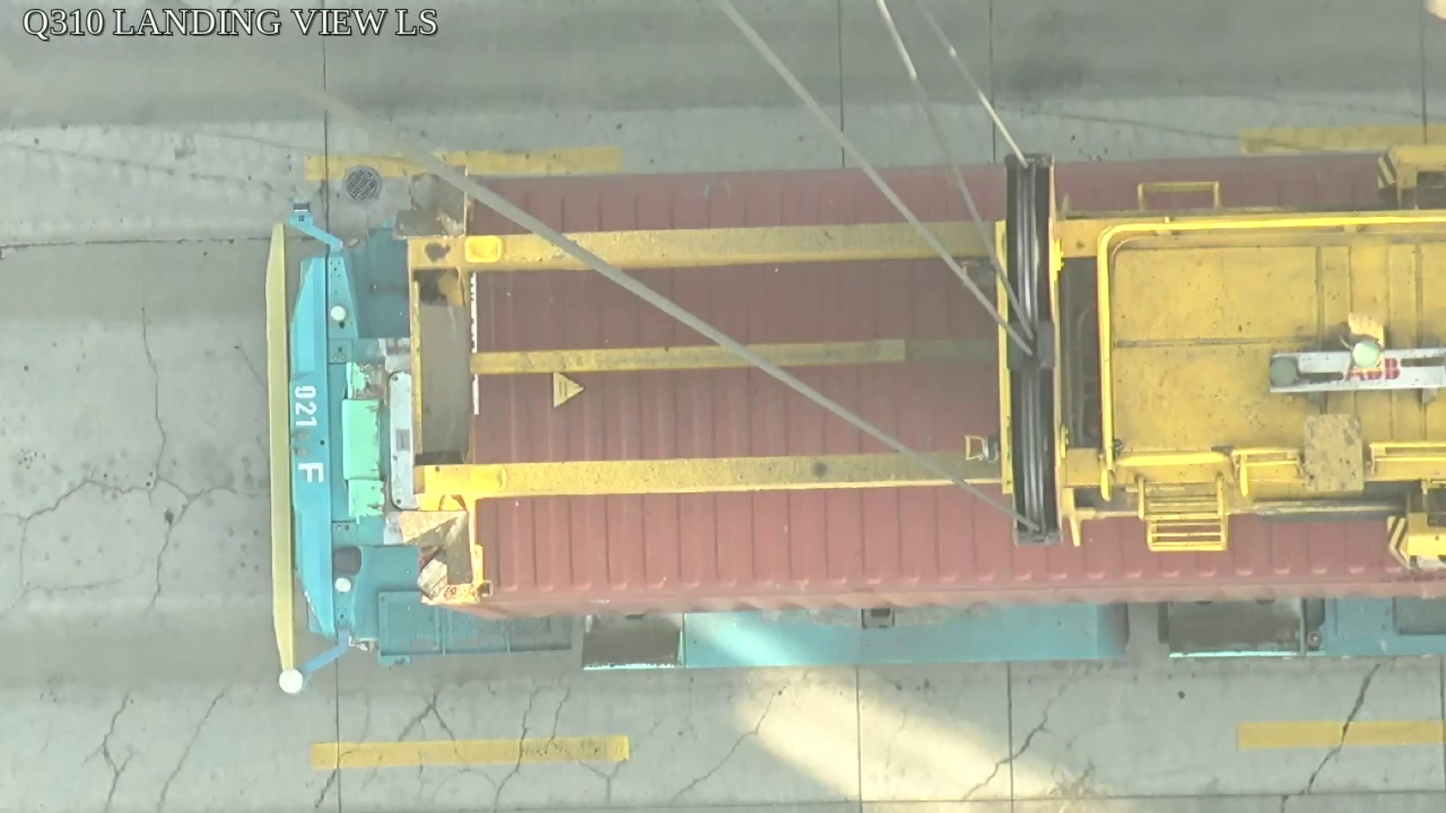aa: (992, 155, 1069, 547)
